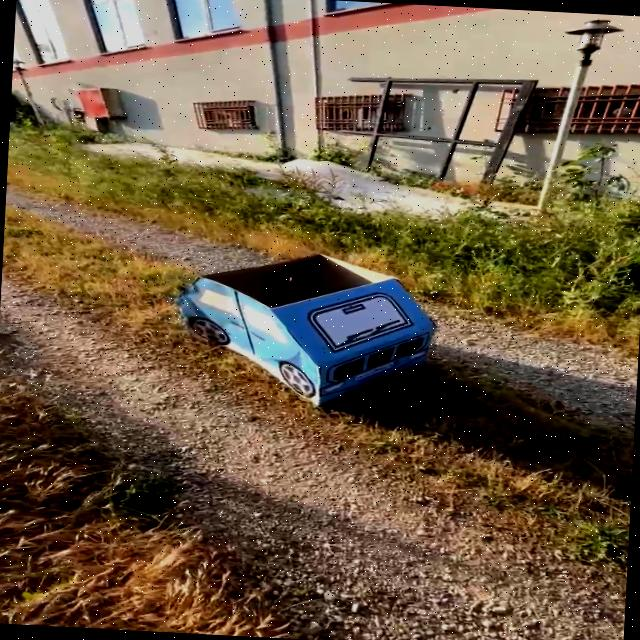blue_car: (109, 219, 527, 446)
